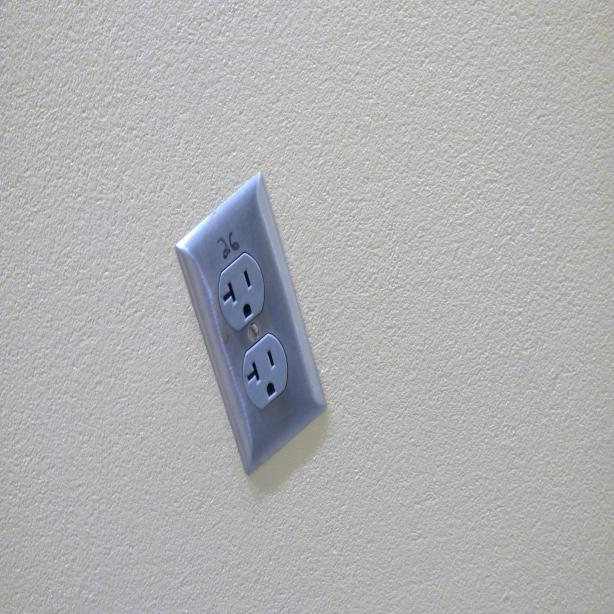typeb: (242, 338, 287, 401), (222, 258, 264, 324)
